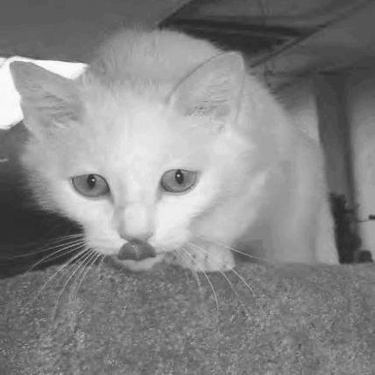cat: (8, 28, 341, 277)
